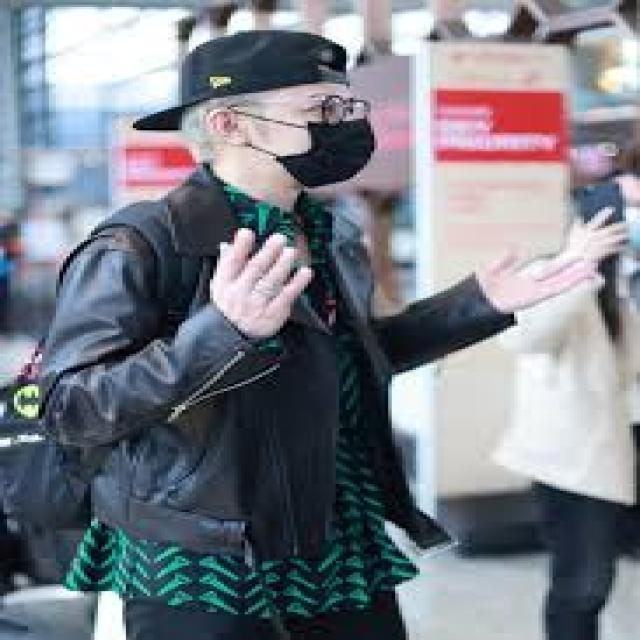cap: (129, 30, 378, 189)
